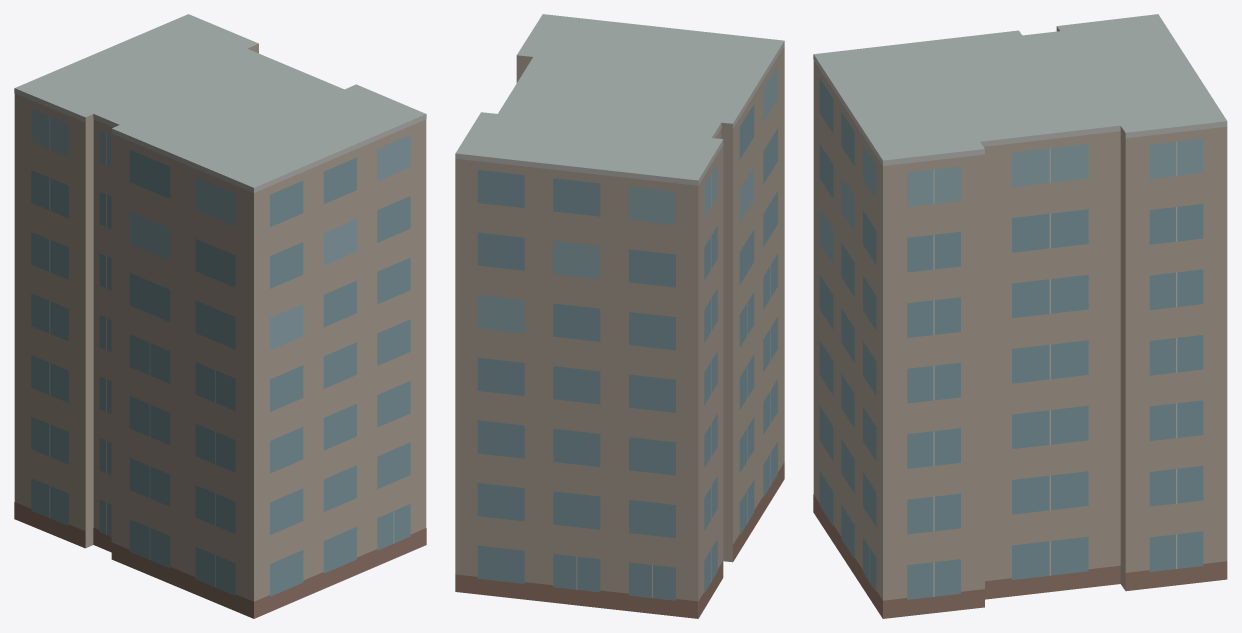
File: survey-upis-32752032.glb
The picture shows the model from 3 angles, left to right: view 1: azimuth 30°, elevation 25°; view 2: azimuth 150°, elevation 25°; view 3: azimuth 270°, elevation 25°; orthographic projection. The views are drawn at different scales.
Parts seen in each view (by area): view 1: survey-upis-32752032.tmp; view 2: survey-upis-32752032.tmp; view 3: survey-upis-32752032.tmp.
Part boxes in pixels (x1,y1,x2,y2): survey-upis-32752032.tmp: (14,14,426,618); survey-upis-32752032.tmp: (455,14,784,618); survey-upis-32752032.tmp: (813,14,1227,618).
Size of the model in its own units: 14 by 20.4 by 16.7.
